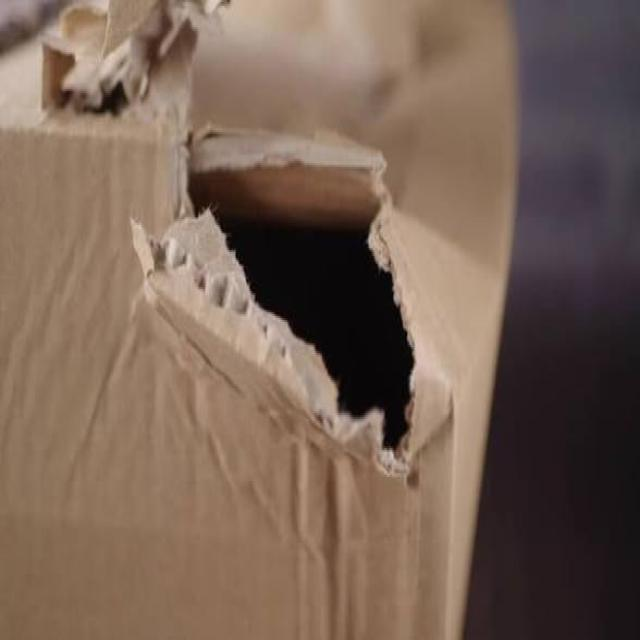package_damage: (146, 67, 452, 514)
